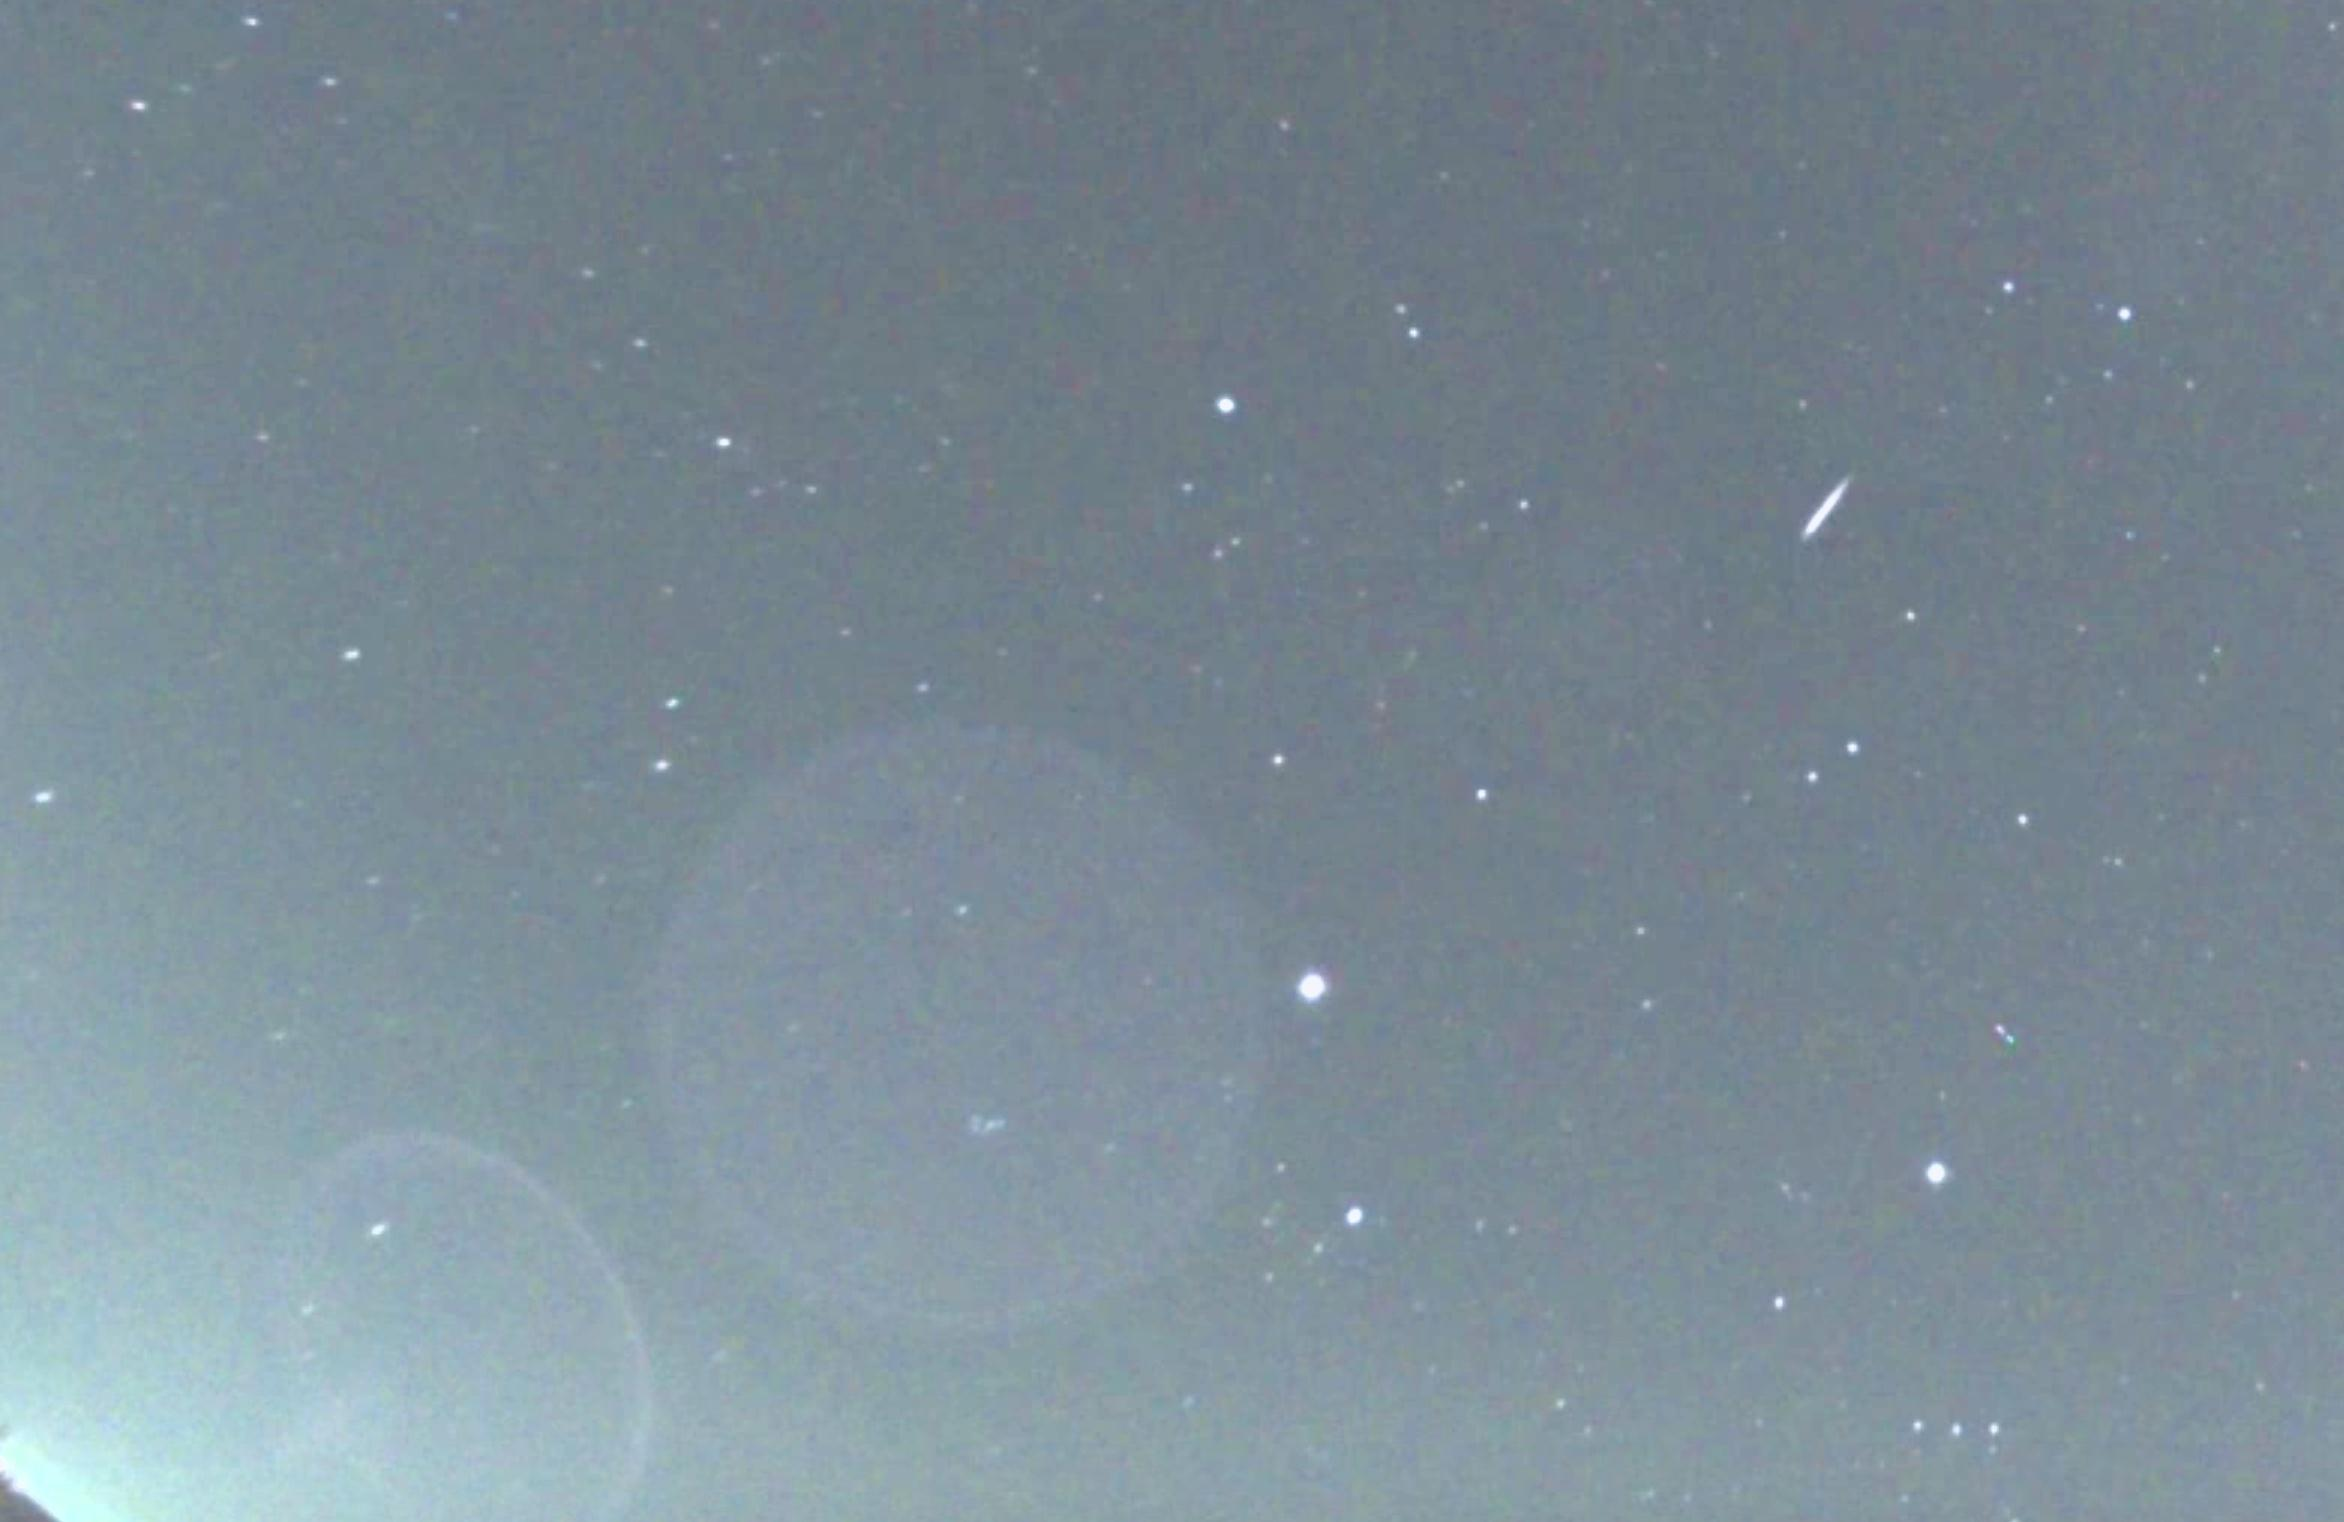Plane: (1956, 1001, 2062, 1062)
meteorite: (1743, 471, 1927, 550)
